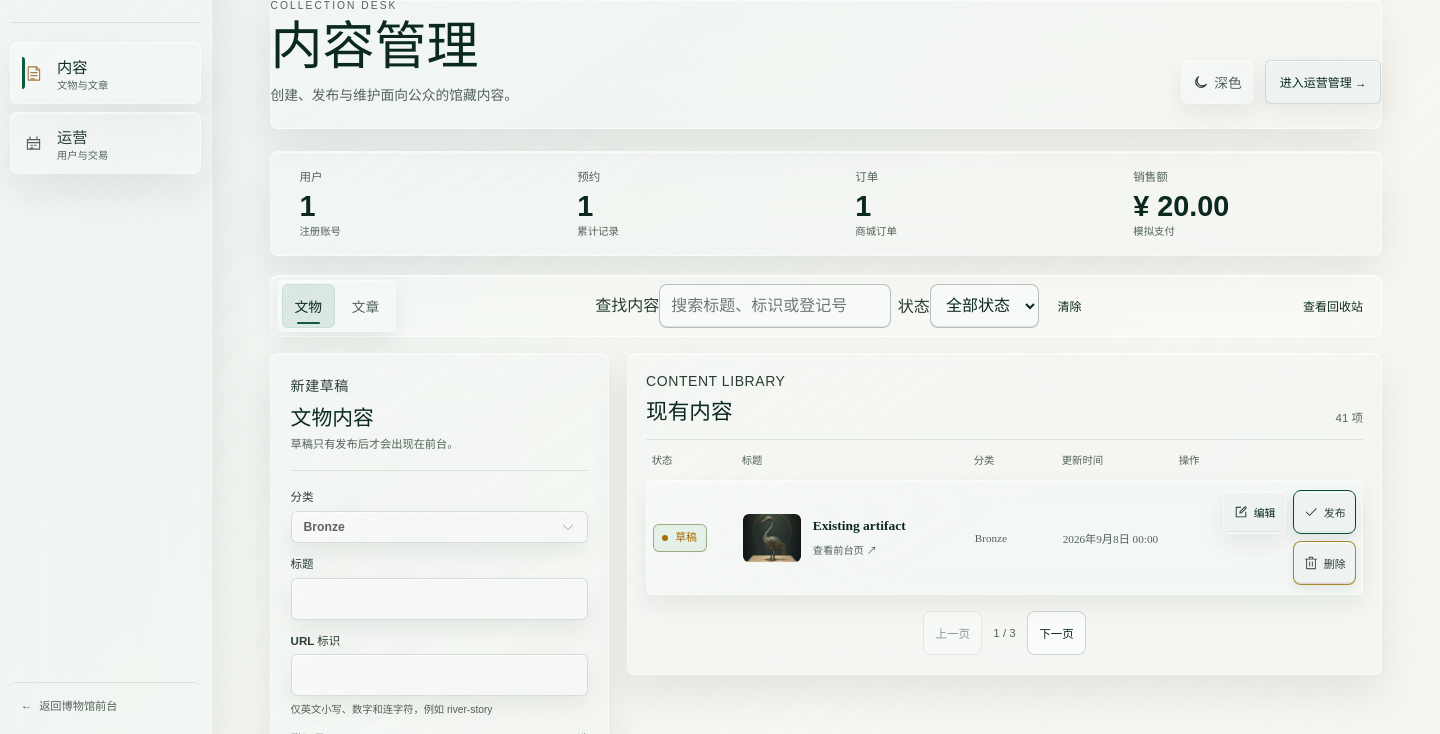
Test case: admin quality workflows › retains draft and dialog on save failure then saves before switching tabs
The width and height of the screenshot is (1440, 734).
Type "Unsaved content" into the field labelled "标题".
click(439, 598); type("Unsaved content")  # box [291,578,588,620]
Type "unsaved-content" into the field labelled "URL 标识 仅英文小写、数字和连字符，例如 river-story".
click(439, 675); type("unsaved-content")  # box [291,654,588,696]
(page scrolled)
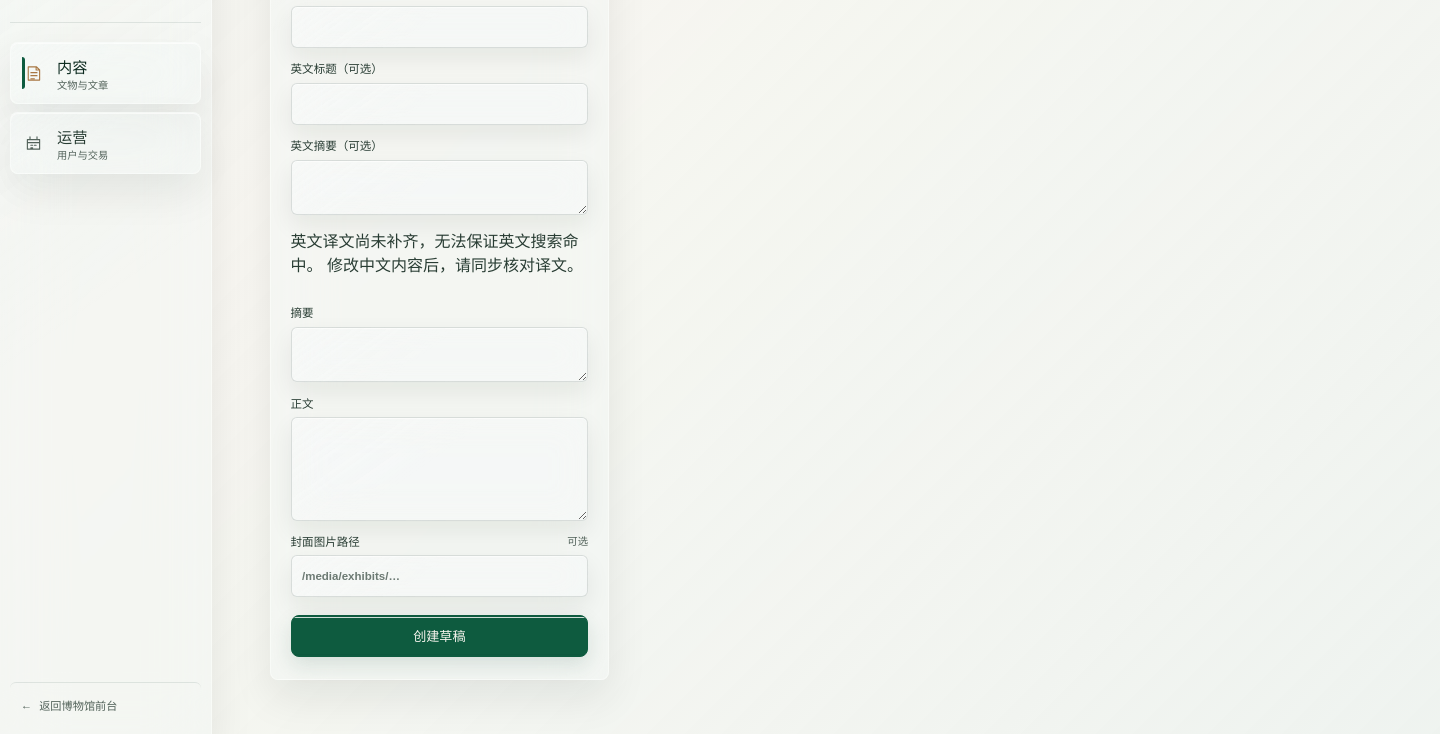
Type "Summary" into the text box labelled "摘要".
click(439, 354); type("Summary")  # box [291,326,588,382]
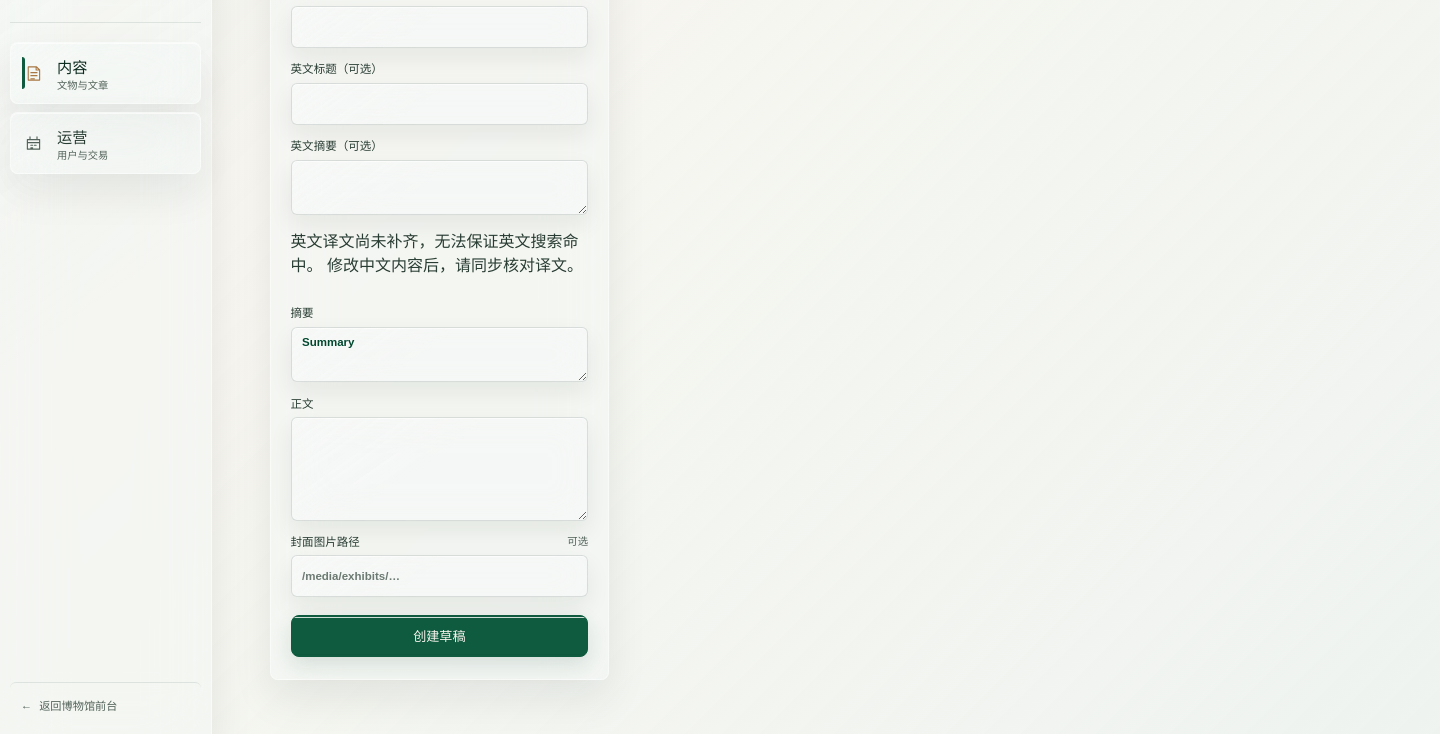
Type "Content" into the text box labelled "正文".
click(439, 469); type("Content")  # box [291,417,588,521]
(page scrolled)
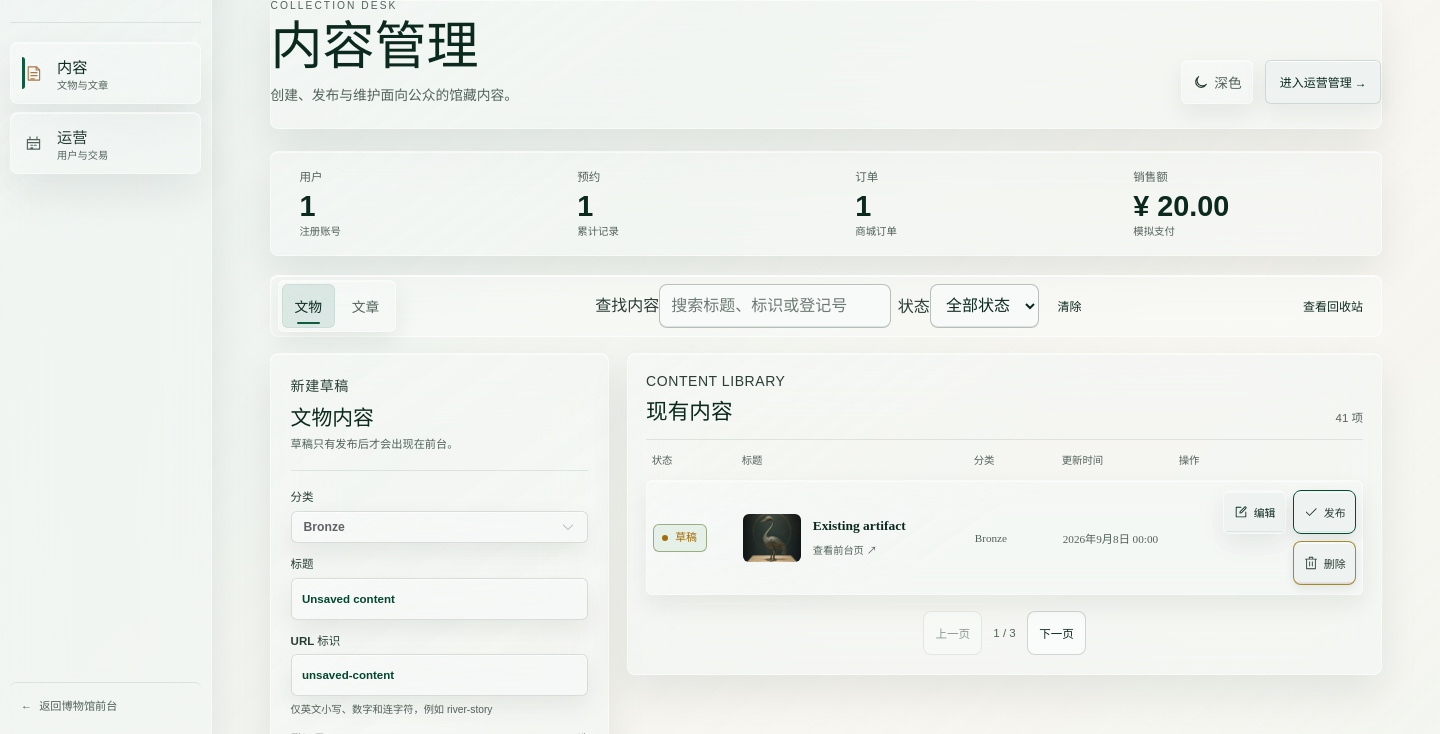
Click the tab "文章".
click(365, 306)  # box [339,284,392,328]
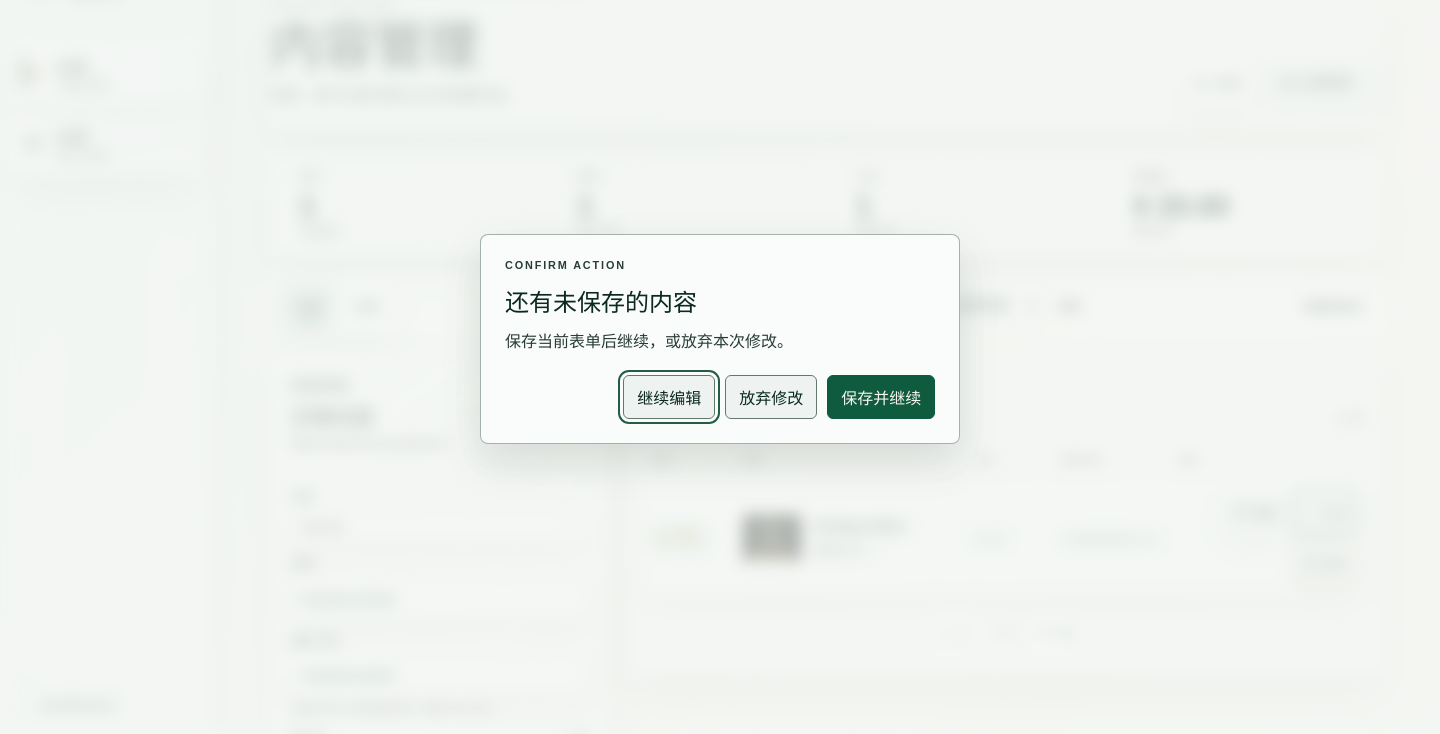
Result: the button "保存并继续" is shown
Click the button "保存并继续".
click(881, 397)  # box [827,375,935,419]
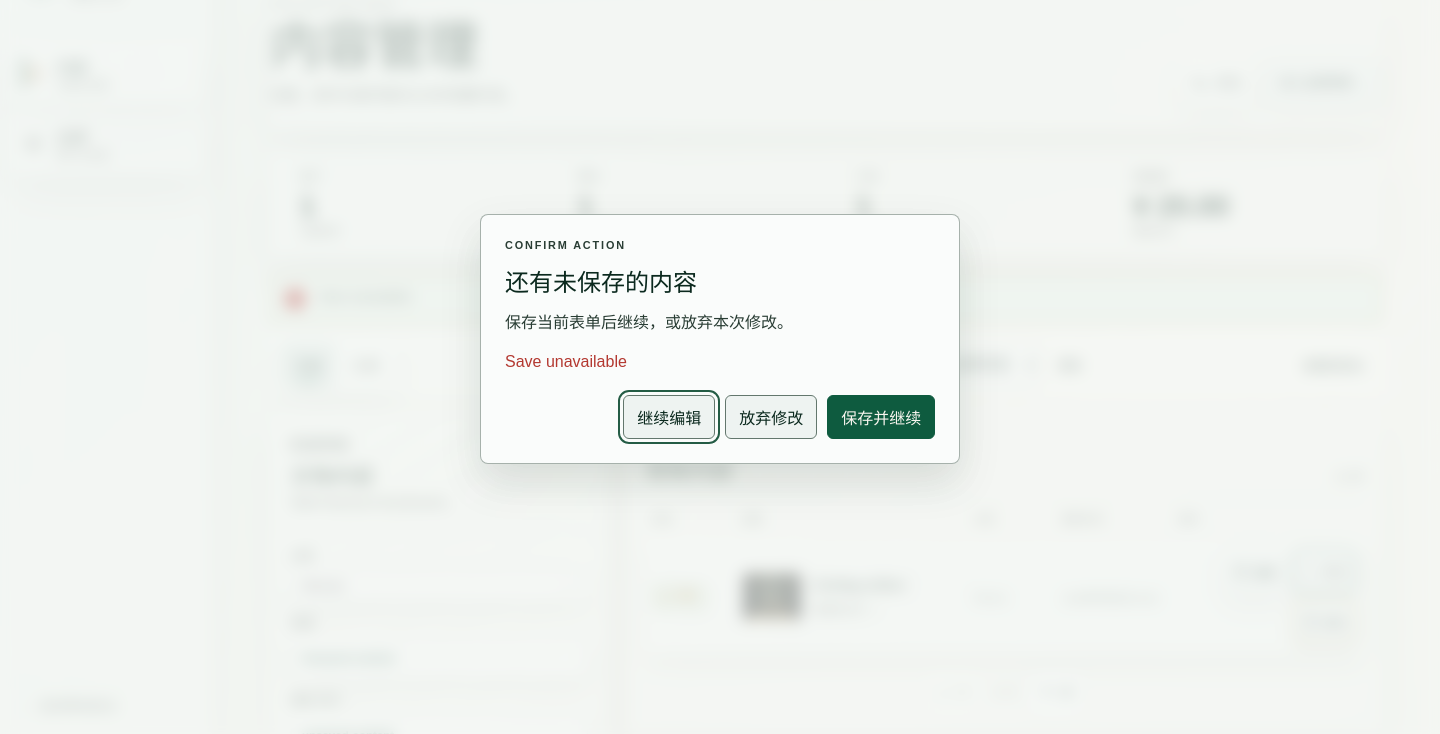
Result: the button "保存并继续" is shown
Result: the dialog shows "Save unavailable" at [505,353,627,370]
Click the button "保存并继续".
click(881, 417)  # box [827,395,935,439]
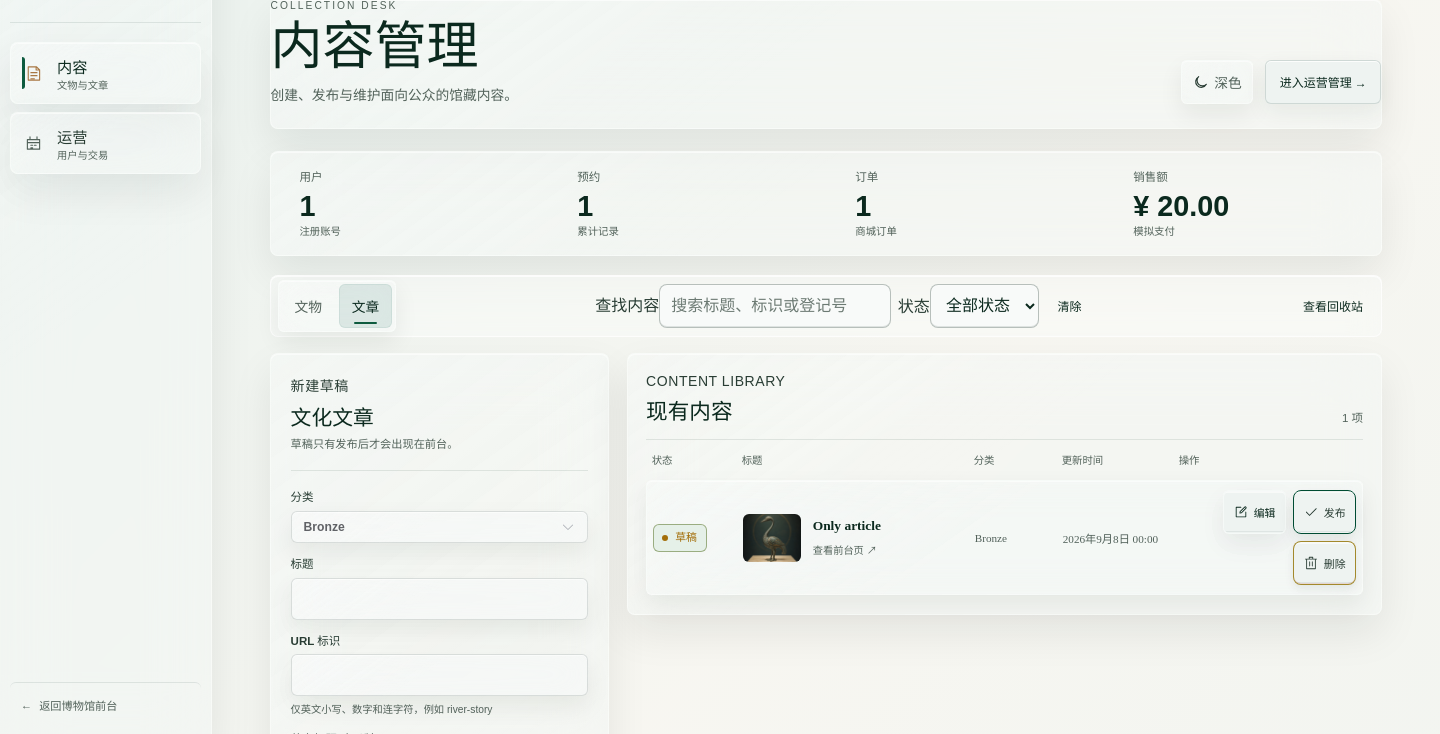
Expected: the tab "文章" is shown, [339,284,392,328]
Result: the dialog is gone
